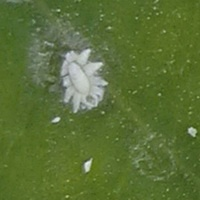insect: (61, 48, 107, 112)
